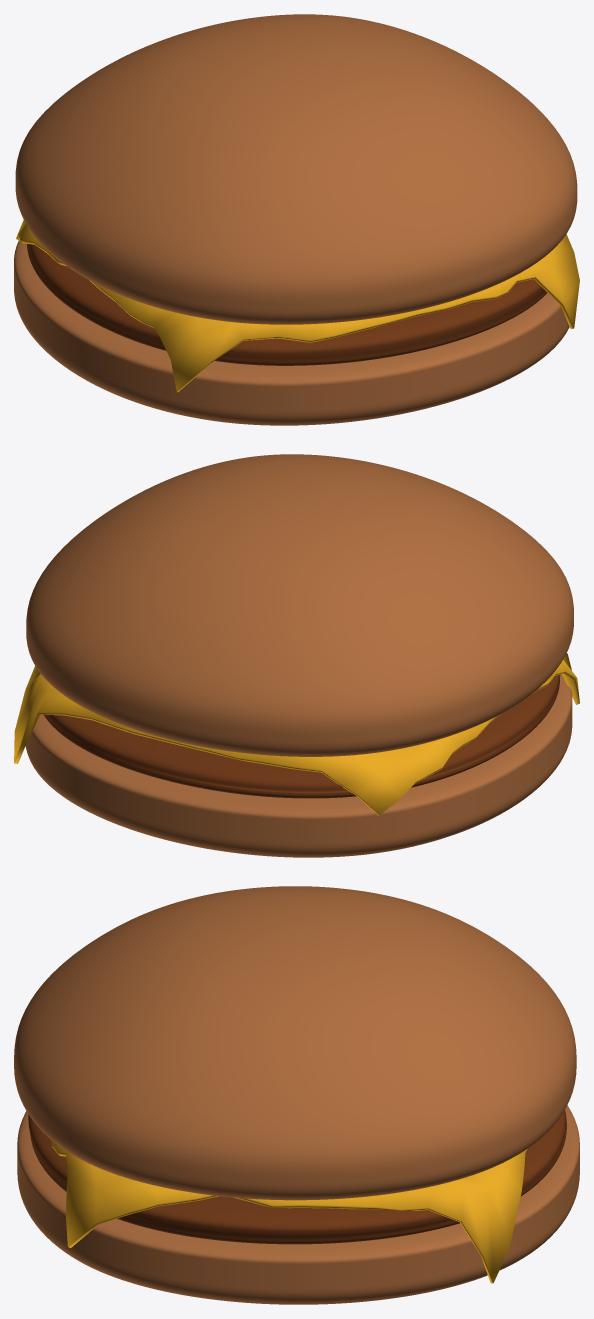
Rendered from Hamburger1.gltf.
3 views of the same model, one above another, from view 1: azimuth 30°, elevation 25°; view 2: azimuth 150°, elevation 25°; view 3: azimuth 270°, elevation 25° (orthographic). The views are drawn at different scales.
Visible parts, largest first — view 1: Cube.002, Cube, Cube.001, Plane; view 2: Cube.002, Cube, Cube.001, Plane; view 3: Cube.002, Cube, Plane, Cube.001.
Boxes of the visible parts, x1,y1,x2,y2 form: Cube.002: [15, 14, 577, 324]; Cube: [14, 241, 569, 425]; Cube.001: [27, 244, 547, 365]; Plane: [16, 220, 579, 392]; Cube.002: [26, 454, 573, 756]; Cube: [25, 674, 572, 857]; Cube.001: [44, 674, 560, 798]; Plane: [14, 653, 579, 815]; Cube.002: [14, 886, 576, 1200]; Cube: [17, 1105, 579, 1304]; Plane: [51, 1140, 527, 1283]; Cube.001: [28, 1110, 566, 1244].
Size of the model in its own units: 9.17 by 5.19 by 9.22.
